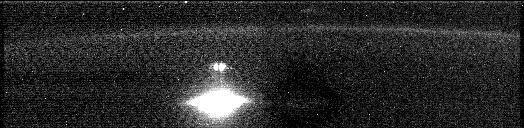positive: (207, 60, 234, 75)
